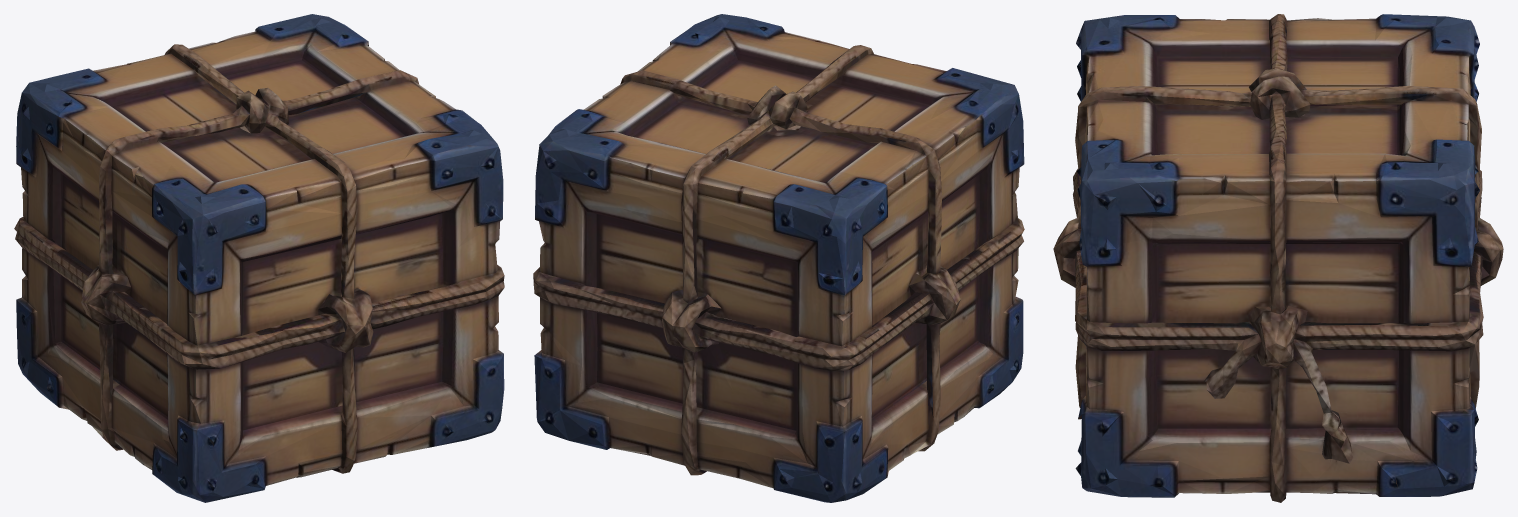
Rendered from crate.glb.
The picture shows the model from 3 angles, left to right: view 1: azimuth 30°, elevation 25°; view 2: azimuth 150°, elevation 25°; view 3: azimuth 270°, elevation 25°; orthographic projection. The views are drawn at different scales.
Parts seen in each view (by area): view 1: tmphdeozgf9.ply; view 2: tmphdeozgf9.ply; view 3: tmphdeozgf9.ply.
Boxes of the visible parts, <box> form: tmphdeozgf9.ply: <box>14,14,504,502</box>; tmphdeozgf9.ply: <box>533,14,1024,502</box>; tmphdeozgf9.ply: <box>1053,14,1503,502</box>.
Size of the model in its own units: 1.99 by 1.78 by 2.
1 material, 1 textured.
